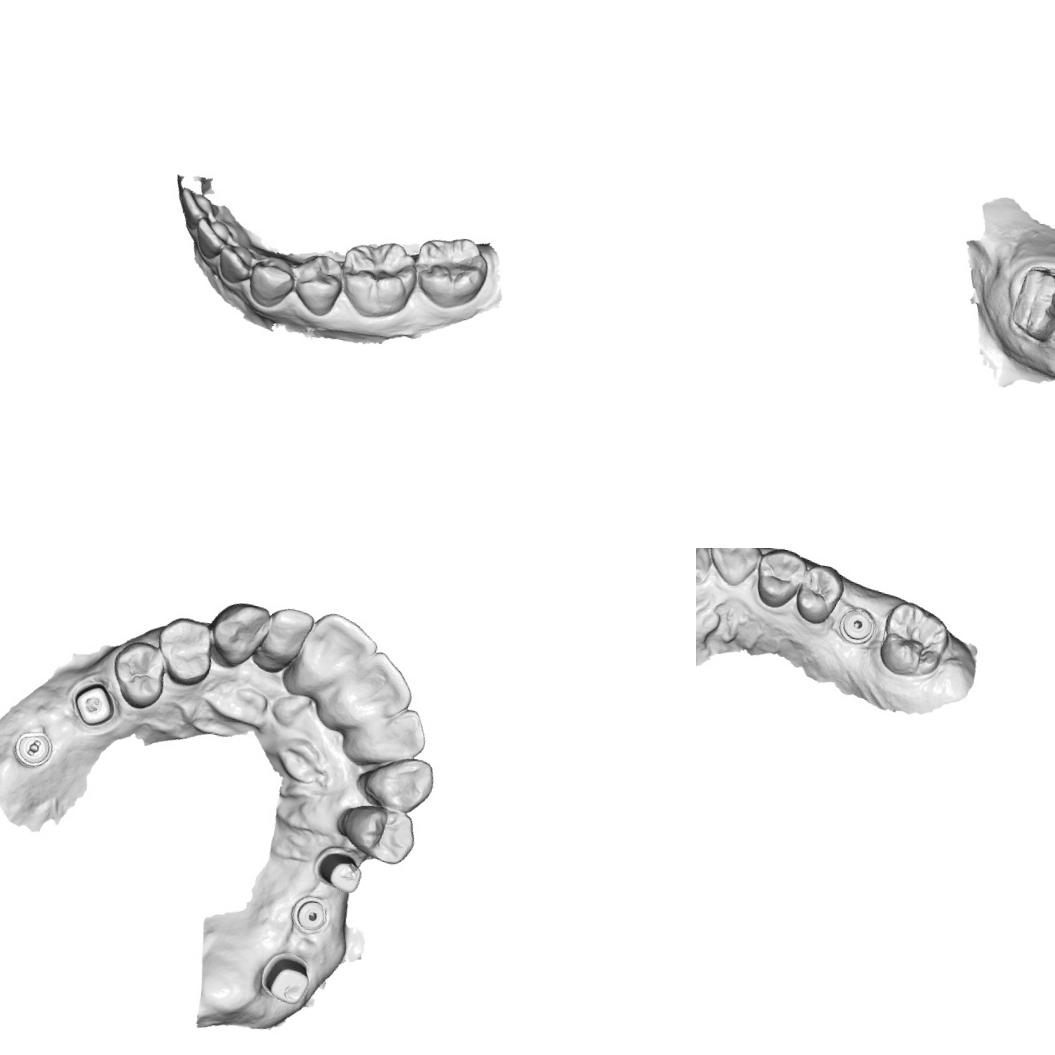abutment: (253, 944, 318, 1010), (67, 677, 122, 732), (311, 844, 367, 898)
canine: (202, 595, 272, 674), (358, 748, 438, 816), (703, 548, 765, 590), (212, 238, 258, 288)
crown: (1003, 259, 1055, 346)
implant: (288, 891, 334, 936), (835, 602, 879, 648)
implant_minus: (9, 724, 56, 772)
incisor: (295, 606, 384, 693), (335, 644, 420, 725), (358, 700, 431, 768), (256, 600, 318, 671), (172, 182, 224, 225), (190, 214, 236, 262), (696, 548, 716, 587)
molar: (334, 234, 423, 324), (408, 228, 494, 314), (873, 596, 954, 683)
premolar: (148, 611, 219, 691), (338, 799, 420, 868), (104, 634, 172, 716), (288, 250, 348, 319), (791, 558, 848, 628), (751, 548, 810, 612), (244, 249, 298, 311)
